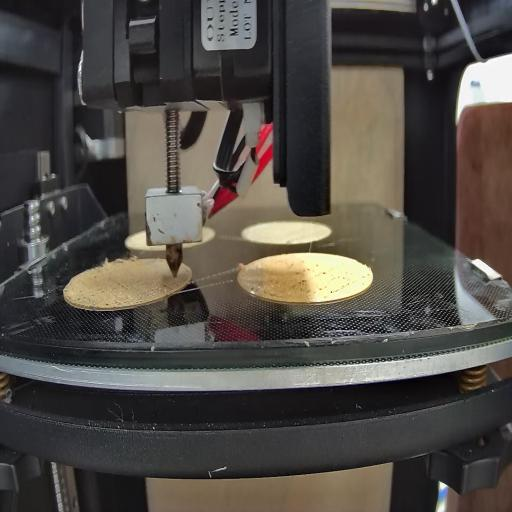under_extrusion: (289, 261, 350, 302), (65, 284, 113, 308), (159, 278, 183, 295)
